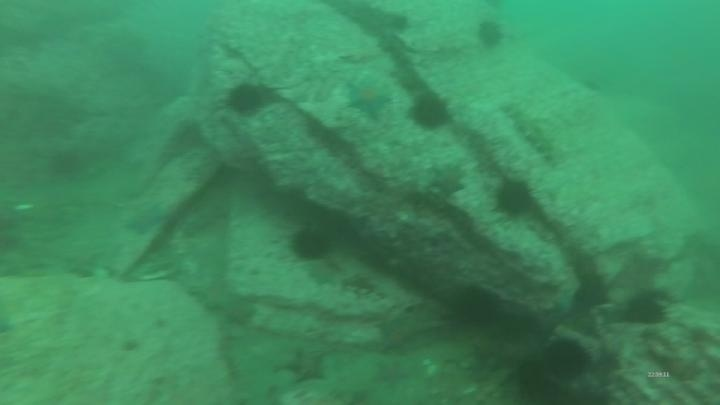echinus: (447, 285, 501, 330), (541, 337, 591, 382), (511, 356, 556, 402), (492, 176, 536, 220), (408, 90, 453, 133), (621, 291, 669, 329), (288, 225, 333, 263), (224, 81, 267, 117), (46, 147, 86, 181), (474, 18, 507, 52)
holothurian: (501, 99, 564, 166)
starfish: (375, 311, 429, 355), (276, 346, 331, 387), (343, 77, 393, 120), (120, 200, 169, 239), (427, 161, 468, 199), (304, 259, 342, 289)
